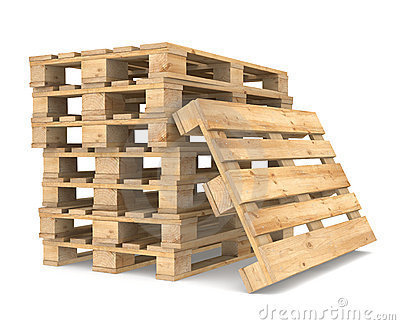pallet: (21, 26, 379, 292)
